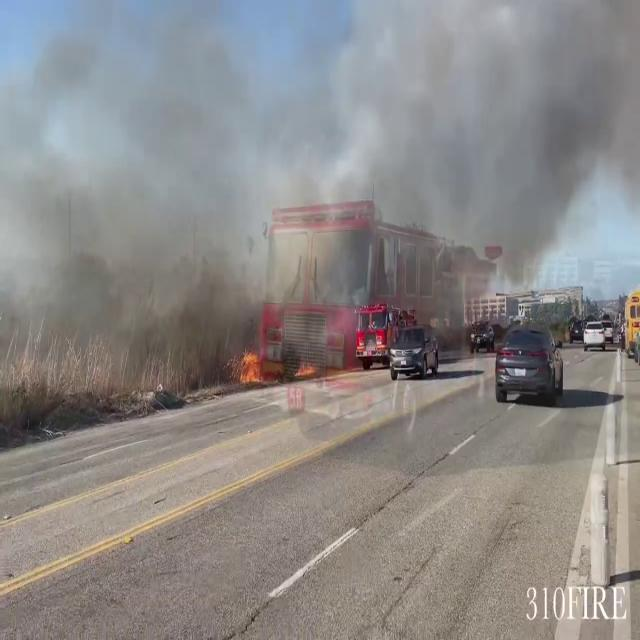Fire: (233, 336, 267, 388)
Smoke: (0, 1, 284, 386), (328, 0, 640, 282)
